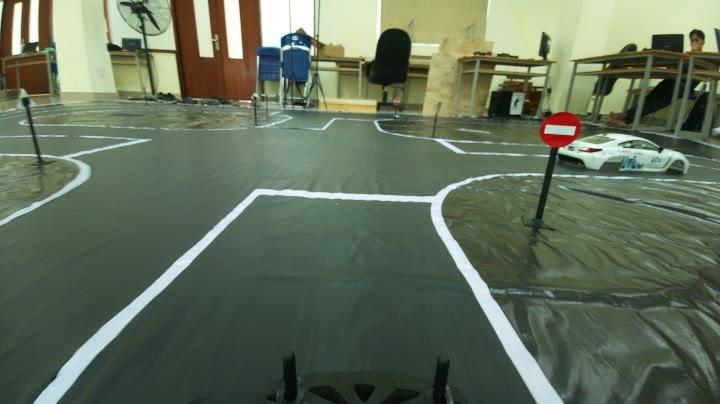no_entry: (536, 106, 582, 152)
